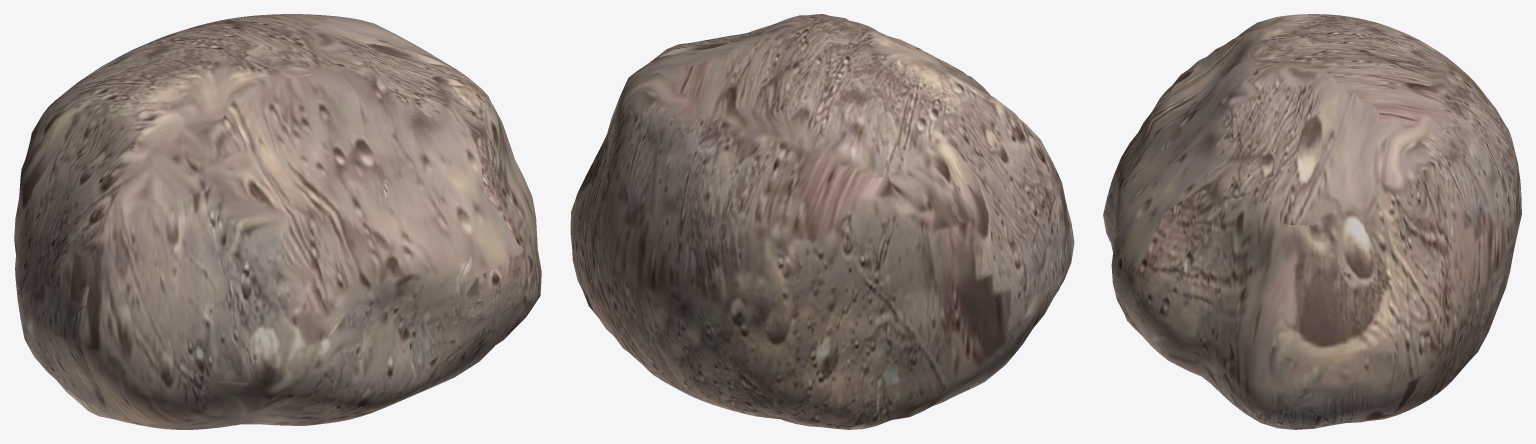
File: Thebe.glb
The picture shows the model from 3 angles, left to right: view 1: azimuth 30°, elevation 25°; view 2: azimuth 150°, elevation 25°; view 3: azimuth 270°, elevation 25°; orthographic projection. The views are drawn at different scales.
Visible parts, largest first — view 1: Thebe Stooke(2); view 2: Thebe Stooke(2); view 3: Thebe Stooke(2).
Part boxes in pixels (left/top/right/bottom): Thebe Stooke(2): left=14, top=14, right=541, bottom=429; Thebe Stooke(2): left=570, top=14, right=1074, bottom=429; Thebe Stooke(2): left=1103, top=14, right=1521, bottom=429.
Bounding box in the file's own units: 116000 × 84000 × 98000.
1 material, 1 textured.
